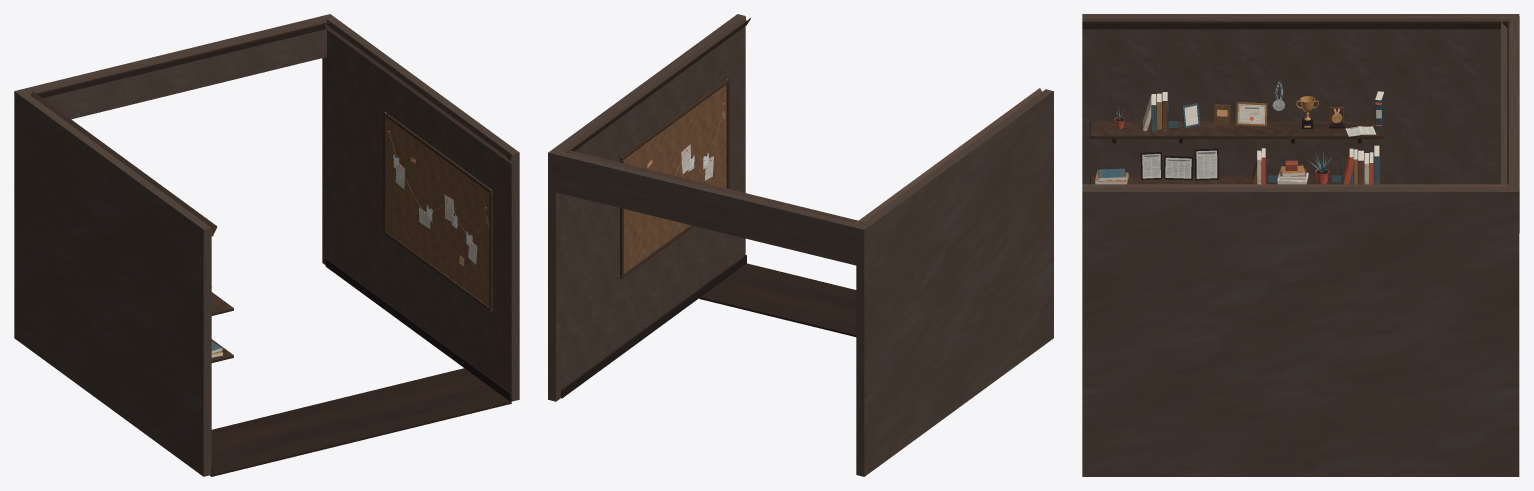
File: room-walls.glb
3 views of the same model, side by side, from view 1: azimuth 30°, elevation 25°; view 2: azimuth 150°, elevation 25°; view 3: azimuth 270°, elevation 25° (orthographic). The views are drawn at different scales.
Parts seen in each view (by area): view 1: wall-left, wall-right, ceiling-edge, floor-front, corkboard; view 2: wall-left, wall-right, ceiling-edge, corkboard, floor-front; view 3: wall-right, wall-left, ceiling-edge, shelf, books, press-1, award-4, press-2, paper-volume, press-3.
Part boxes in pixels (box(x1,y1,x2,y2)): wall-left: box(14, 89, 212, 476); wall-right: box(322, 14, 519, 401); ceiling-edge: box(22, 15, 511, 236); floor-front: box(210, 368, 511, 476); corkboard: box(383, 112, 492, 311); wall-left: box(856, 89, 1053, 476); wall-right: box(548, 14, 746, 401); ceiling-edge: box(552, 16, 1041, 266); corkboard: box(620, 79, 729, 278); floor-front: box(699, 263, 856, 336); wall-right: box(1082, 187, 1519, 476); wall-left: box(1082, 14, 1519, 186); ceiling-edge: box(1082, 16, 1519, 232); shelf: box(1090, 121, 1383, 184); books: box(1095, 92, 1379, 184); press-1: box(1194, 148, 1218, 180); award-4: box(1236, 102, 1267, 126); press-2: box(1163, 155, 1193, 180); paper-volume: box(1345, 91, 1384, 136); press-3: box(1140, 152, 1162, 180).
Size of the model in its own units: 3.16 by 2.38 by 3.28.
2 materials, 1 textured.
